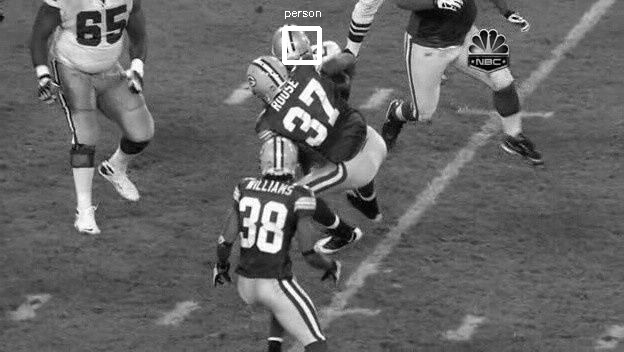person: (275, 32, 309, 75), (274, 32, 308, 75), (276, 32, 310, 75), (275, 31, 309, 74), (275, 33, 309, 76)
target_negative: (211, 50, 395, 284), (30, 101, 285, 246), (475, 5, 577, 227), (93, 271, 396, 322), (165, 159, 574, 179), (223, 291, 318, 309)
